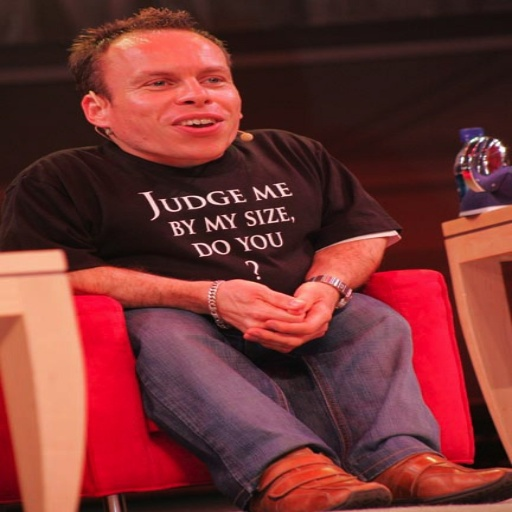hand: (240, 280, 341, 357)
